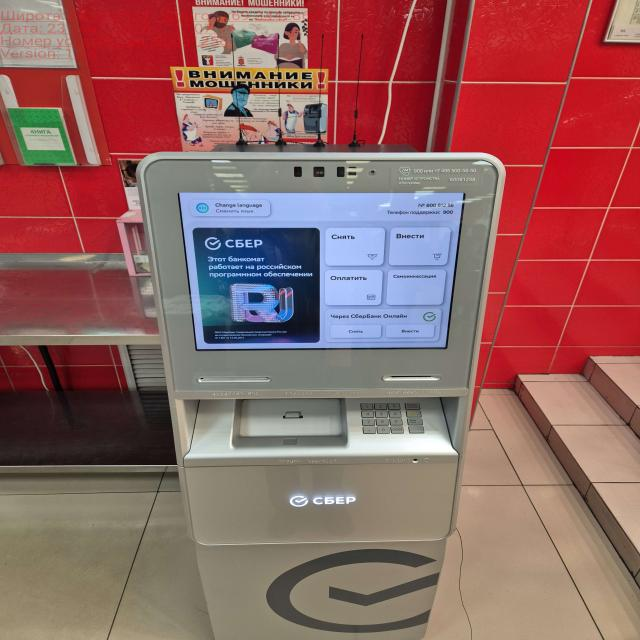bank: (138, 146, 503, 640)
